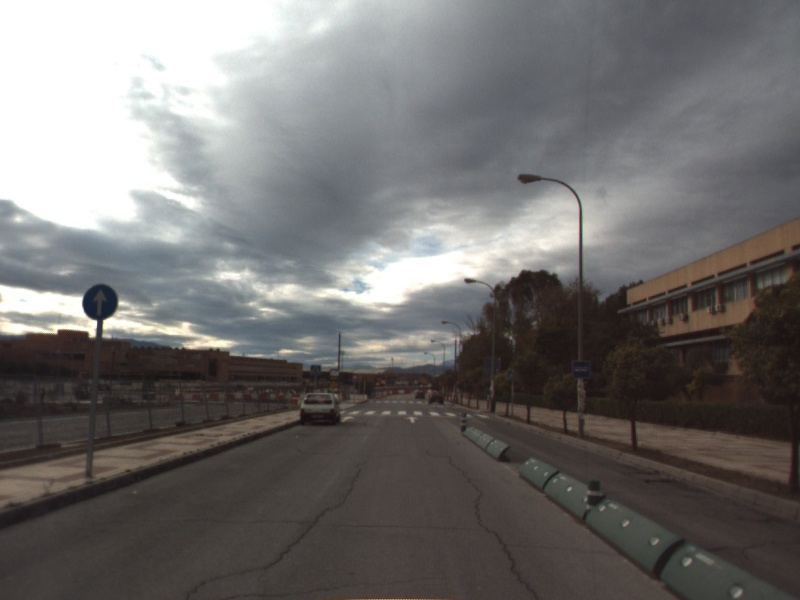STRAIGHT: (403, 415, 422, 425), (338, 414, 356, 424)
